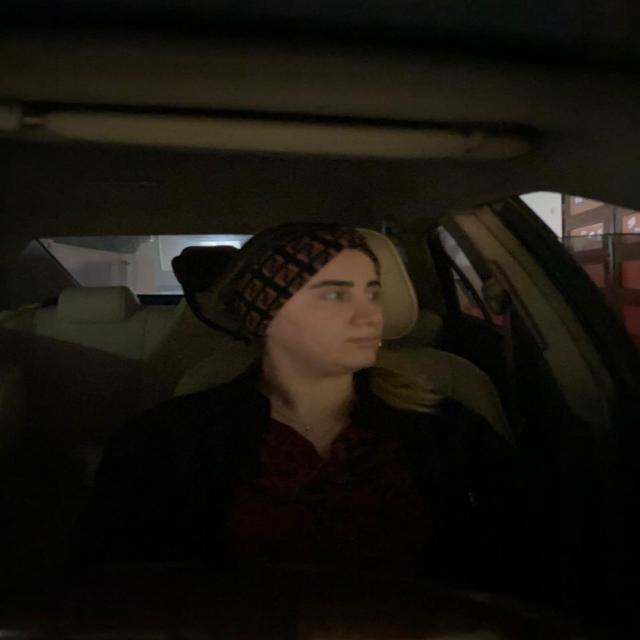LeftRight: (219, 212, 392, 381)
